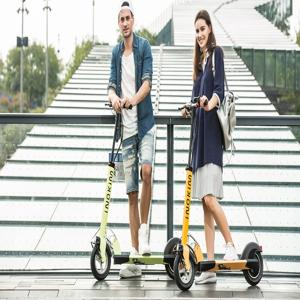human on a scooter: (89, 1, 188, 282), (173, 9, 264, 292)
